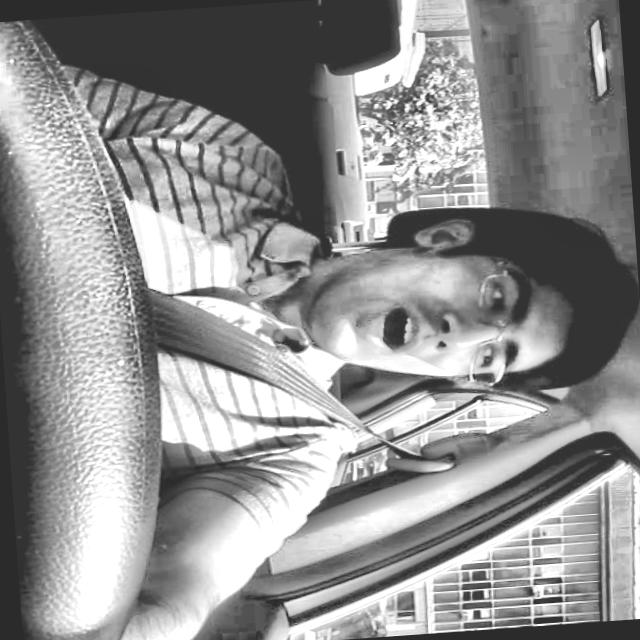open_eyes: (475, 273, 514, 321), (468, 341, 507, 387)
open_mouth: (348, 291, 430, 371)
